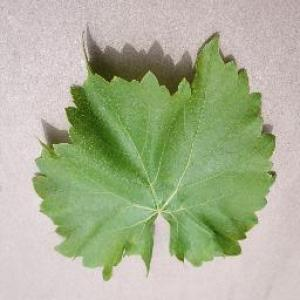Folha: (31, 21, 276, 280)
